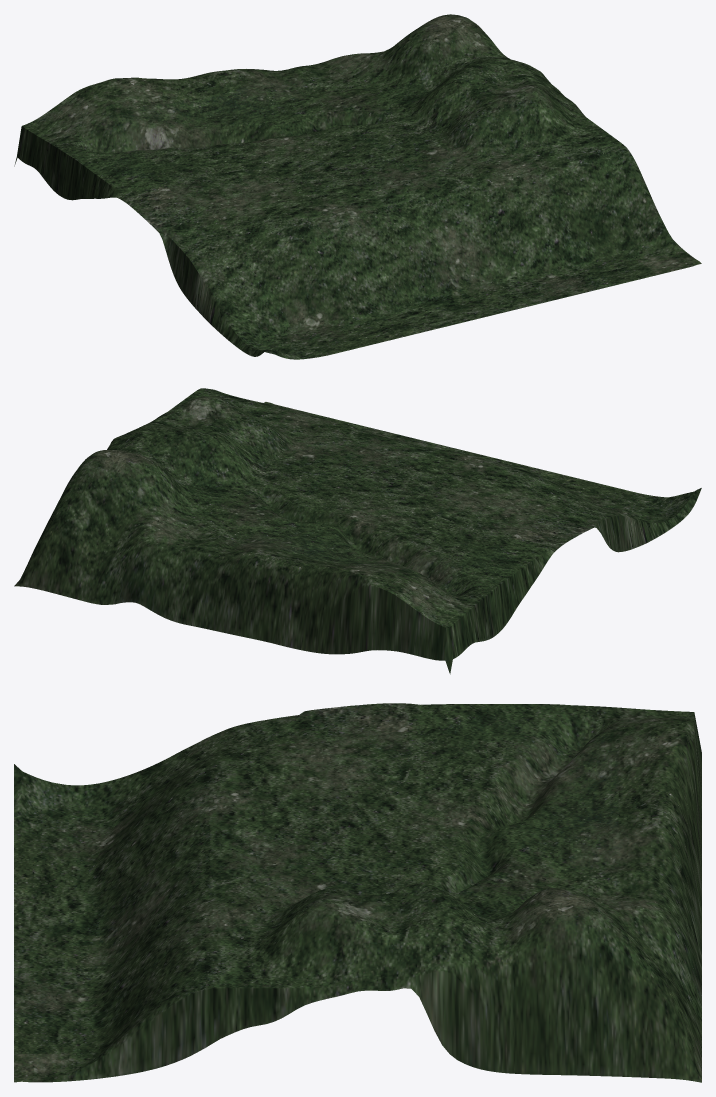
3 renders of one model, top to bottom at view 1: azimuth 30°, elevation 25°; view 2: azimuth 150°, elevation 25°; view 3: azimuth 270°, elevation 25°, orthographic. The views are drawn at different scales.
Parts seen in each view (by area): view 1: New_Terrain_x1_y5; view 2: New_Terrain_x1_y5; view 3: New_Terrain_x1_y5.
Part boxes in pixels (box(x1,y1,x2,y2)): New_Terrain_x1_y5: box(14, 14, 701, 359); New_Terrain_x1_y5: box(14, 388, 701, 674); New_Terrain_x1_y5: box(14, 703, 701, 1082).
Bounding box in the file's own units: 12500 × 2909 × 12500.
